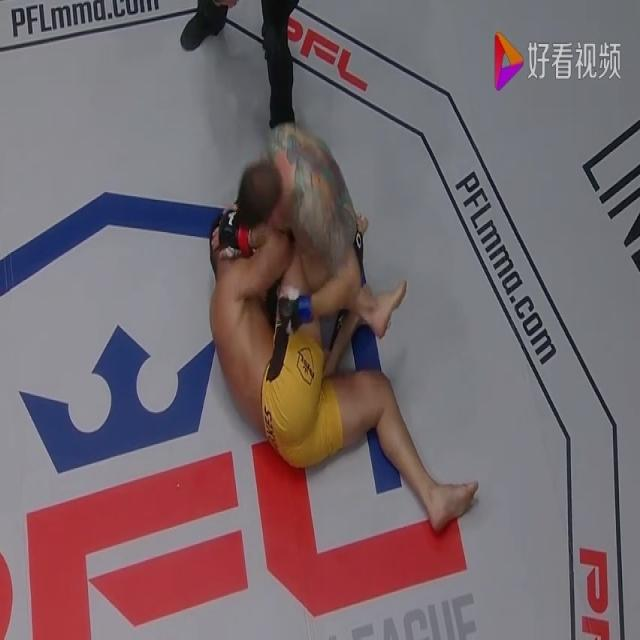fight: (194, 100, 492, 564)
